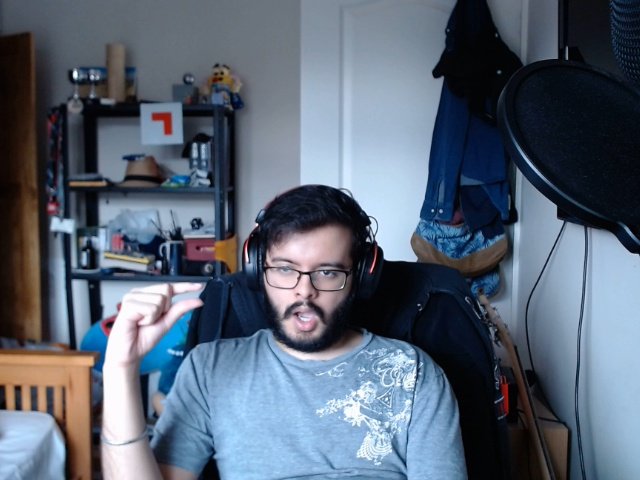Small: (89, 270, 211, 373)
